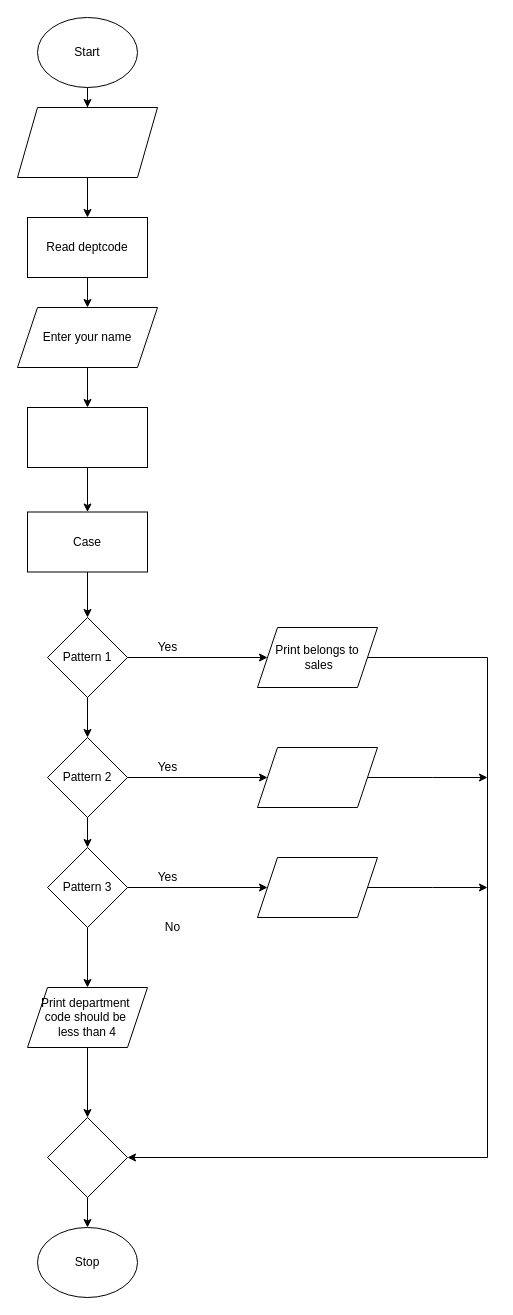
The diagram is 513 pixels wide and 1315 high, and some of its shapes have lost their labels. The shapes that lost their labels are listed below. From the top down, each one's box as (x1, y1, x2, y2) in pixels, then its label:
(16, 106, 158, 178): Enter department code
(26, 406, 148, 468): Read name
(256, 746, 378, 808): Print belongs to marketing
(256, 856, 378, 918): Print belongs to tech operations
(46, 1116, 128, 1198): esac
